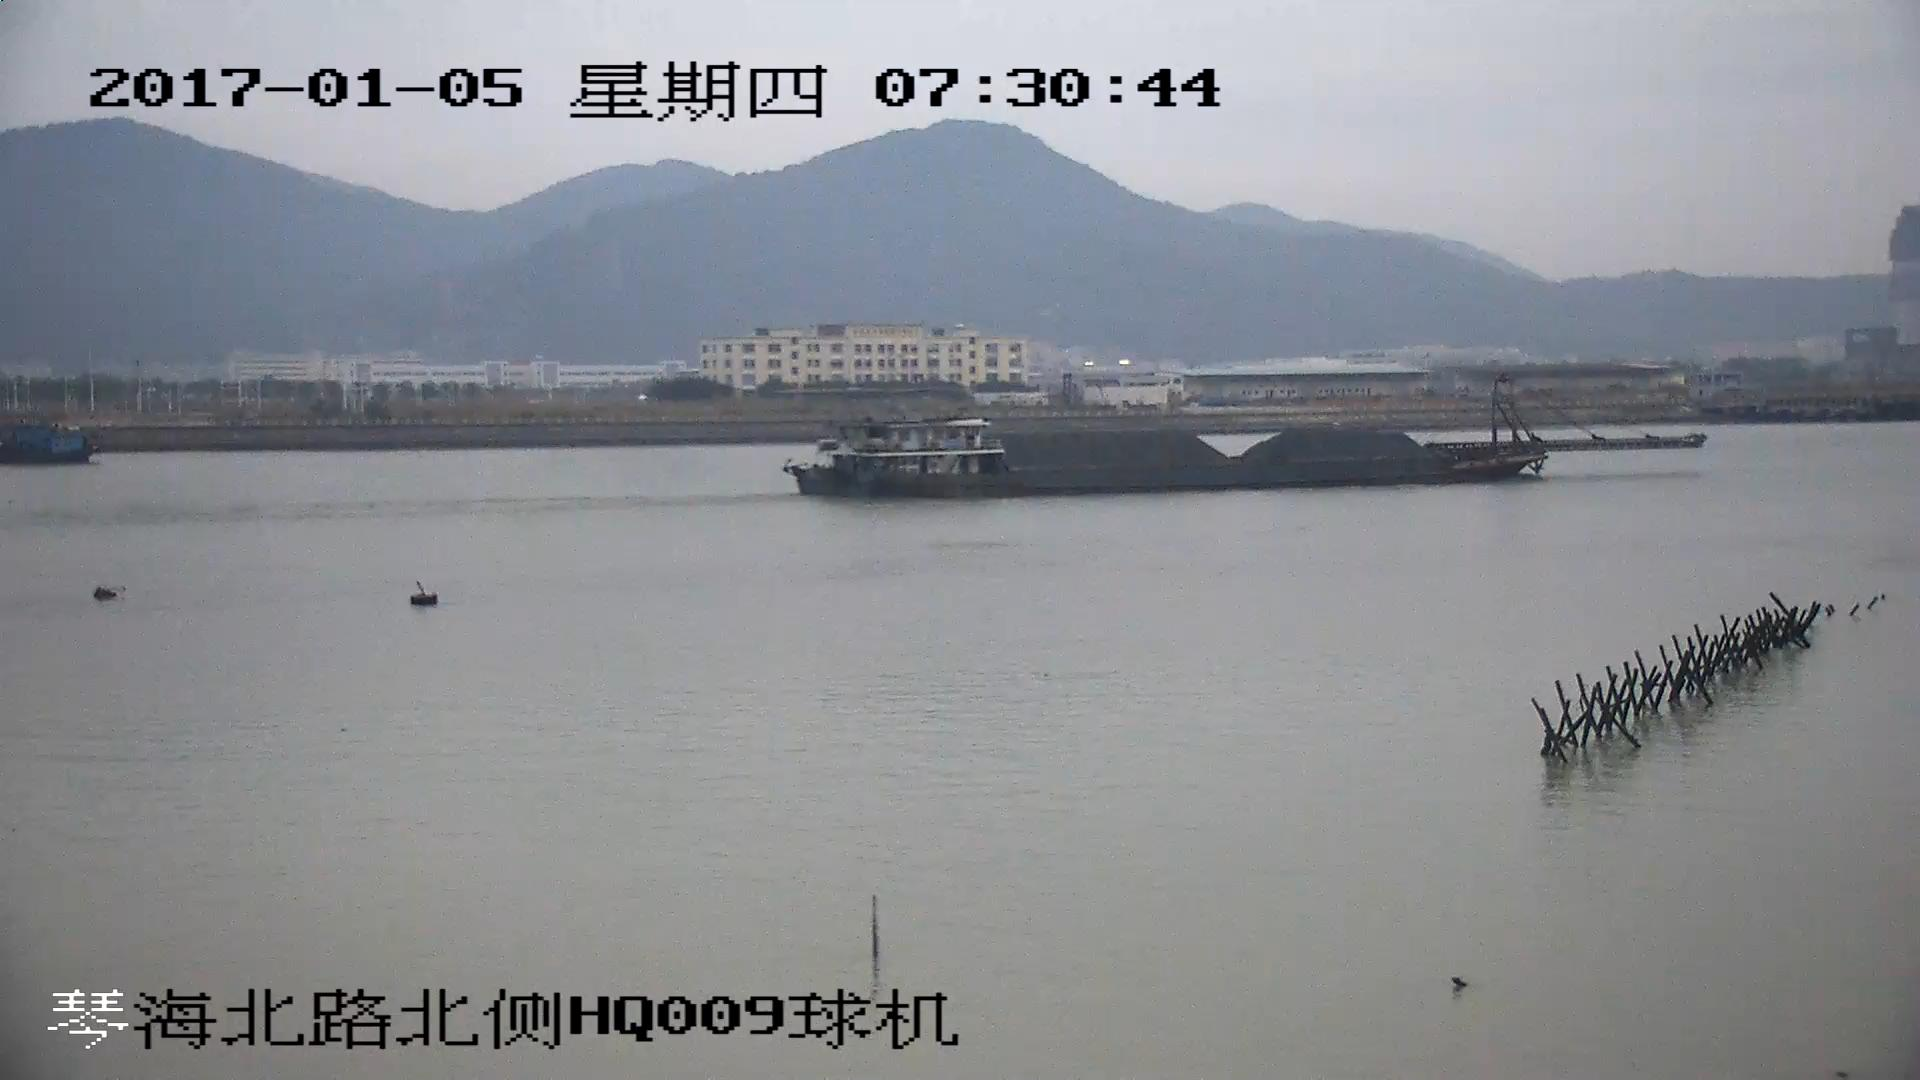ore carrier: (782, 375, 1706, 504)
